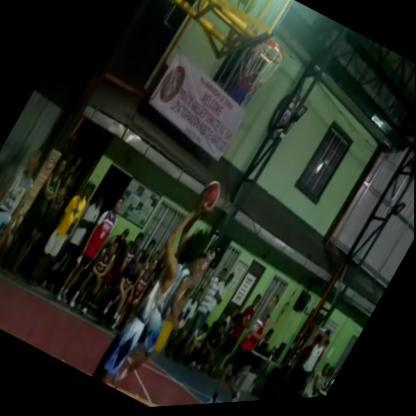basketball: (186, 172, 229, 229)
rim: (206, 6, 306, 130)
